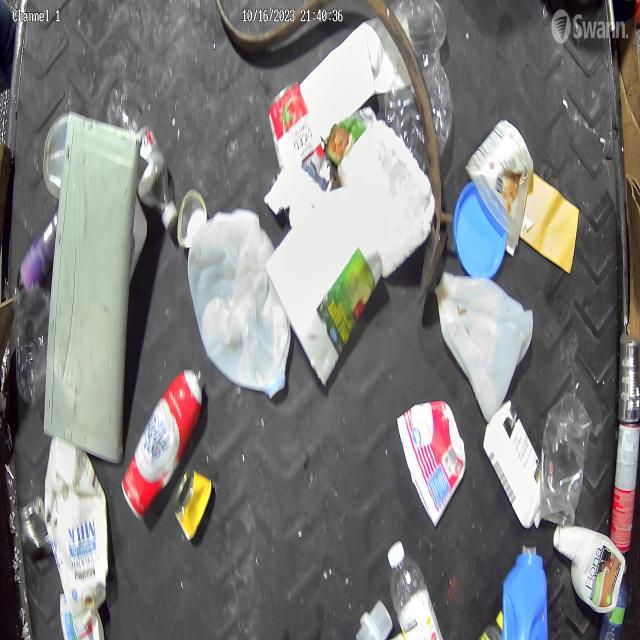can: (268, 80, 322, 172), (173, 467, 215, 543), (617, 329, 640, 423), (16, 496, 52, 556), (176, 186, 208, 252)
milk_jug: (185, 208, 292, 398), (434, 270, 534, 423)
non_white_jug: (502, 551, 550, 640)
plastic_bottle: (106, 85, 178, 233), (386, 535, 444, 640)
